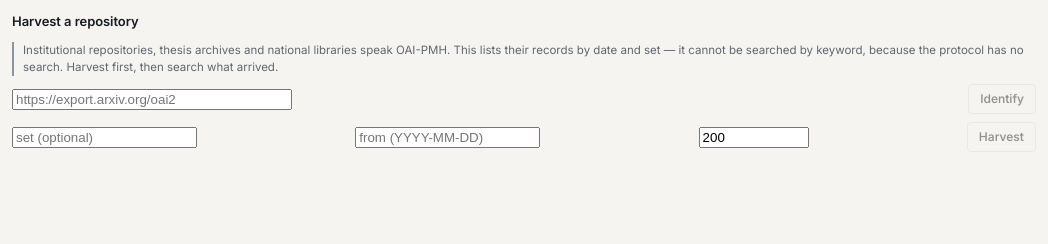
it: identify before harvest › reports a bad address as an answer about the address
Type "not-a-url" into the field named "Repository base URL" at (152, 99), box [12,88,292,110]
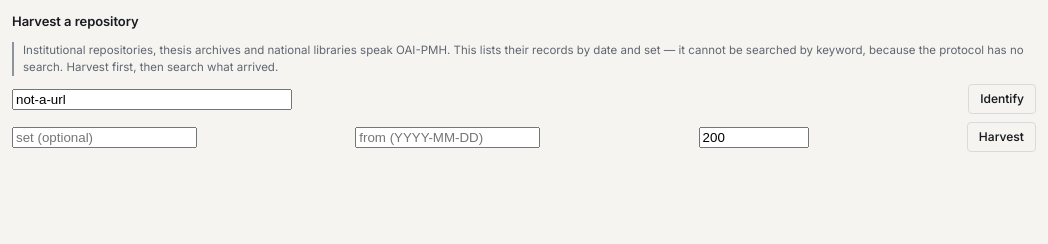
Click the button "Identify" at (1002, 99), box [968,84,1036,114]
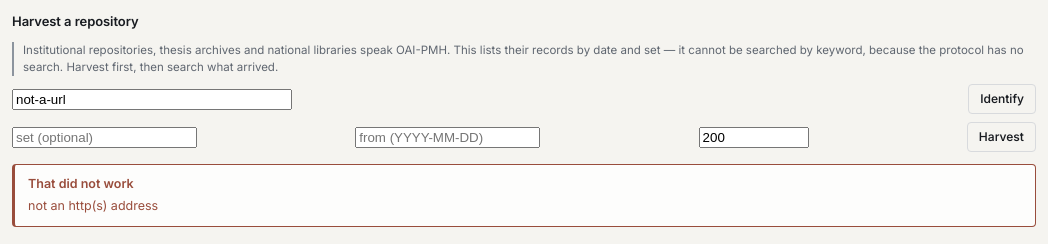
Now the message "That did not work not an http(s) address" is shown, box [12,164,1036,226]
